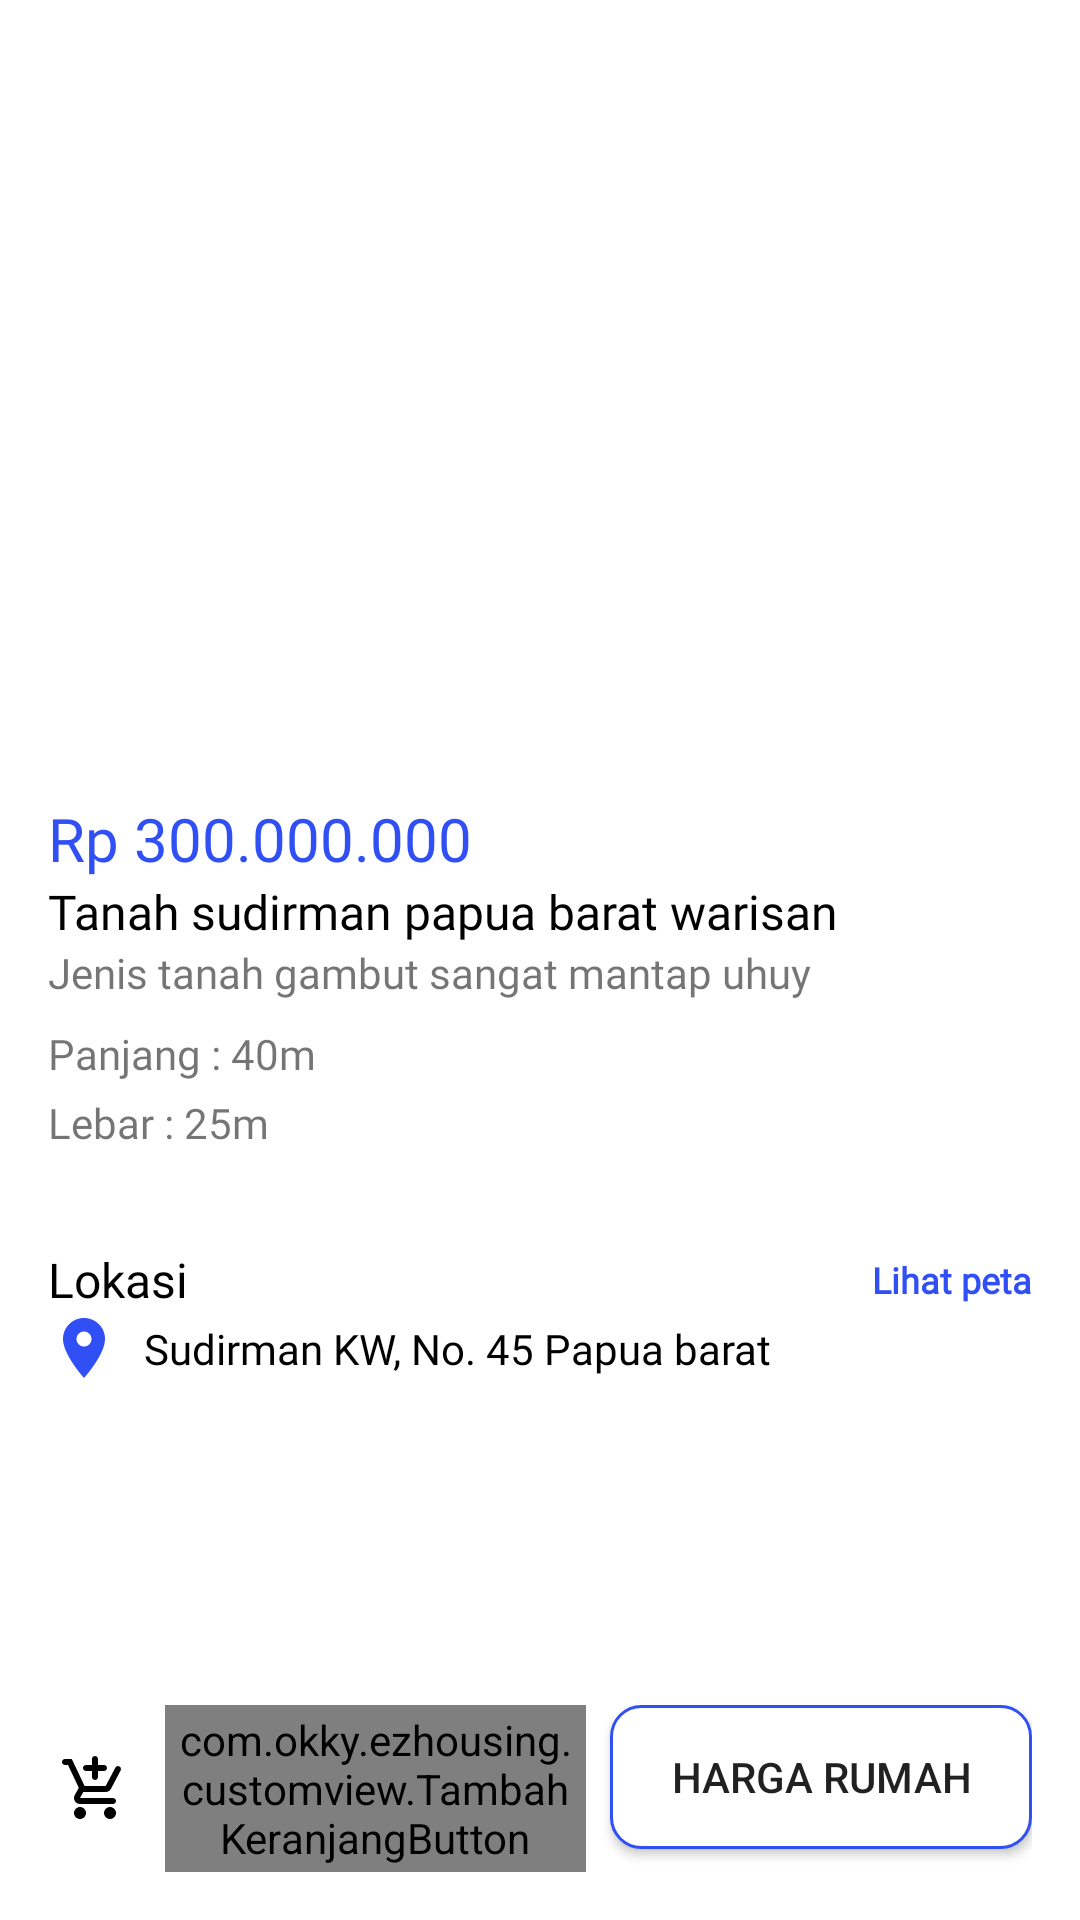

Where to tap for icons on this 1080px x 1920px app screen, as (x,y):
add shopping cart: (91,1787)
location on: (84,1348)
